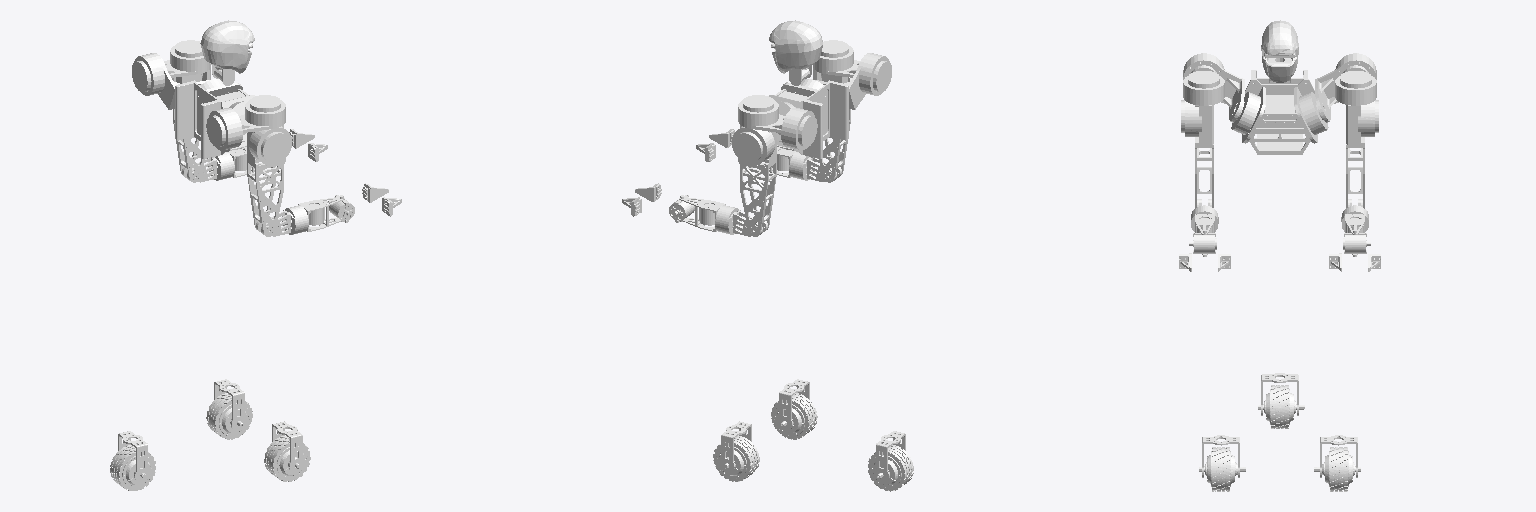
--- Render facts (derived) ---
Views: 3 orthographic renders of the robot side by side, from view 1: azimuth 30°, elevation 25°; view 2: azimuth 150°, elevation 25°; view 3: azimuth 270°, elevation 25°.
Robot: lanchong_description — 28 links, 27 joints (22 revolute, 5 prismatic); root link vehicle; default pose: all joints at 0.
Visible links, largest first — view 1: pelvis_link, right_shoulder_yaw_link, neck_pitch_link, left_shoulder_pitch_link, right_shoulder_roll_link, right_shoulder_pitch_link, rear_middle_roller_link, left_shoulder_roll_link, front_right_roller_link, front_left_roller_link, left_shoulder_yaw_link, right_elbow_link (+5 smaller); view 2: pelvis_link, left_shoulder_yaw_link, neck_pitch_link, right_shoulder_pitch_link, left_shoulder_roll_link, left_shoulder_pitch_link, rear_middle_roller_link, right_shoulder_roll_link, front_right_roller_link, front_left_roller_link, right_shoulder_yaw_link, left_elbow_link (+5 smaller); view 3: pelvis_link, neck_pitch_link, right_shoulder_yaw_link, left_shoulder_yaw_link, right_shoulder_roll_link, left_shoulder_roll_link, right_shoulder_pitch_link, left_shoulder_pitch_link, front_left_roller_link, front_right_roller_link, rear_middle_roller_link.
Link boxes in pixels (x1,y1,x2,y2): pelvis_link: [175, 79, 254, 158]; right_shoulder_yaw_link: [247, 125, 291, 236]; neck_pitch_link: [200, 20, 254, 85]; left_shoulder_pitch_link: [132, 53, 208, 109]; right_shoulder_roll_link: [239, 95, 285, 134]; right_shoulder_pitch_link: [206, 108, 246, 150]; rear_middle_roller_link: [110, 445, 155, 490]; left_shoulder_roll_link: [164, 40, 210, 77]; front_right_roller_link: [264, 436, 310, 481]; front_left_roller_link: [206, 393, 252, 439]; left_shoulder_yaw_link: [172, 68, 210, 182]; right_elbow_link: [256, 205, 308, 236]; pelvis_link: [769, 79, 848, 158]; left_shoulder_yaw_link: [732, 125, 776, 236]; neck_pitch_link: [769, 20, 822, 85]; right_shoulder_pitch_link: [815, 53, 891, 109]; left_shoulder_roll_link: [738, 95, 784, 134]; left_shoulder_pitch_link: [777, 107, 817, 150]; rear_middle_roller_link: [868, 445, 913, 491]; right_shoulder_roll_link: [813, 40, 859, 77]; front_right_roller_link: [771, 393, 817, 439]; front_left_roller_link: [713, 435, 759, 481]; right_shoulder_yaw_link: [813, 68, 851, 182]; left_elbow_link: [715, 205, 767, 236]; pelvis_link: [1231, 70, 1328, 154]; neck_pitch_link: [1261, 20, 1298, 82]; right_shoulder_yaw_link: [1181, 100, 1213, 208]; left_shoulder_yaw_link: [1346, 100, 1378, 208]; right_shoulder_roll_link: [1183, 65, 1224, 105]; left_shoulder_roll_link: [1335, 65, 1376, 105]; right_shoulder_pitch_link: [1183, 53, 1244, 122]; left_shoulder_pitch_link: [1315, 53, 1376, 122]; front_left_roller_link: [1314, 447, 1360, 491]; front_right_roller_link: [1199, 447, 1245, 491]; rear_middle_roller_link: [1258, 385, 1304, 428].
Bounding box of the posed robot: 0.8261 × 0.5863 × 1.43 m (x, y, z).
Meshes: 28 distinct files referenced, 24 mesh visuals loaded (24 binary STL); not drawn: 4 (reference not matched to a file when rendering).

robot.urdf — lanchong_description:
<?xml version="1.0" encoding="utf-8"?>
<!-- This URDF was automatically created by SolidWorks to URDF Exporter! Originally created by Stephen Brawner ([email redacted]) 
     Commit Version: 1.6.0-4-g7f85cfe  Build Version: 1.6.7995.38578
     For more information, please see http://wiki.ros.org/sw_urdf_exporter -->
<robot
  name="lanchong_description">
  <link
    name="vehicle">
    <inertial>
      <origin
        xyz="-0.12987 -0.00019144 0.74667"
        rpy="0 0 0" />
      <mass
        value="31.636" />
      <inertia
        ixx="3.6603"
        ixy="8.5448E-05"
        ixz="-0.00018619"
        iyy="3.6523"
        iyz="-5.9453E-06"
        izz="0.21878" />
    </inertial>
    <visual>
      <origin
        xyz="0 0 0"
        rpy="0 0 0" />
      <geometry>
        <mesh
          filename="package://lanchong_description/meshes/vehicle.STL" />
      </geometry>
      <material
        name="">
        <color
          rgba="1 1 1 1" />
      </material>
    </visual>
    <collision>
      <origin
        xyz="0 0 0"
        rpy="0 0 0" />
      <geometry>
        <mesh
          filename="package://lanchong_description/meshes/vehicle.STL" />
      </geometry>
    </collision>
  </link>
  <link
    name="rear_middle_rudder_link">
    <inertial>
      <origin
        xyz="-2.7756E-17 3.3871E-17 -0.043093"
        rpy="0 0 0" />
      <mass
        value="0.059006" />
      <inertia
        ixx="0.0002195"
        ixy="-1.339E-20"
        ixz="-3.4673E-21"
        iyy="0.00010325"
        iyz="-1.6349E-20"
        izz="0.0001381" />
    </inertial>
    <visual>
      <origin
        xyz="0 0 0"
        rpy="0 0 0" />
      <geometry>
        <mesh
          filename="package://lanchong_description/meshes/rear_middle_rudder_link.STL" />
      </geometry>
      <material
        name="">
        <color
          rgba="1 1 1 1" />
      </material>
    </visual>
    <collision>
      <origin
        xyz="0 0 0"
        rpy="0 0 0" />
      <geometry>
        <mesh
          filename="package://lanchong_description/meshes/rear_middle_rudder_link.STL" />
      </geometry>
    </collision>
  </link>
  <joint
    name="rear_middle_rudder_joint"
    type="revolute">
    <origin
      xyz="-0.3216 0 0.159"
      rpy="0 0 0" />
    <parent
      link="vehicle" />
    <child
      link="rear_middle_rudder_link" />
    <axis
      xyz="0 0 1" />
    <limit
      lower="-3.14"
      upper="3.14"
      effort="100"
      velocity="1" />
  </joint>
  <link
    name="rear_middle_roller_link">
    <inertial>
      <origin
        xyz="-3.7169E-09 3.0991E-06 7.4051E-05"
        rpy="0 0 0" />
      <mass
        value="0.80865" />
      <inertia
        ixx="0.0010489"
        ixy="-2.1242E-10"
        ixz="-1.3384E-08"
        iyy="0.0014046"
        iyz="-9.0297E-08"
        izz="0.0010514" />
    </inertial>
    <visual>
      <origin
        xyz="0 0 0"
        rpy="0 0 0" />
      <geometry>
        <mesh
          filename="package://lanchong_description/meshes/rear_middle_roller_link.STL" />
      </geometry>
      <material
        name="">
        <color
          rgba="1 1 1 1" />
      </material>
    </visual>
    <collision>
      <origin
        xyz="0 0 0"
        rpy="0 0 0" />
      <geometry>
        <mesh
          filename="package://lanchong_description/meshes/rear_middle_roller_link.STL" />
      </geometry>
    </collision>
  </link>
  <joint
    name="rear_middle_roller_joint"
    type="revolute">
    <origin
      xyz="0 0 -0.095"
      rpy="0 0 0" />
    <parent
      link="rear_middle_rudder_link" />
    <child
      link="rear_middle_roller_link" />
    <axis
      xyz="0 -1 0" />
    <limit
      lower="-3.14"
      upper="3.14"
      effort="100"
      velocity="1" />
  </joint>
  <link
    name="front_right_rudder_link">
    <inertial>
      <origin
        xyz="0 -5.5511E-17 -0.043093"
        rpy="0 0 0" />
      <mass
        value="0.059006" />
      <inertia
        ixx="0.0002195"
        ixy="-6.5657E-21"
        ixz="-2.4478E-21"
        iyy="0.00010325"
        iyz="-1.0418E-19"
        izz="0.0001381" />
    </inertial>
    <visual>
      <origin
        xyz="0 0 0"
        rpy="0 0 0" />
      <geometry>
        <mesh
          filename="package://lanchong_description/meshes/front_right_rudder_link.STL" />
      </geometry>
      <material
        name="">
        <color
          rgba="1 1 1 1" />
      </material>
    </visual>
    <collision>
      <origin
        xyz="0 0 0"
        rpy="0 0 0" />
      <geometry>
        <mesh
          filename="package://lanchong_description/meshes/front_right_rudder_link.STL" />
      </geometry>
    </collision>
  </link>
  <joint
    name="front_right_rudder_joint"
    type="revolute">
    <origin
      xyz="0.1034 -0.17 0.159"
      rpy="0 0 0" />
    <parent
      link="vehicle" />
    <child
      link="front_right_rudder_link" />
    <axis
      xyz="0 0 1" />
    <limit
      lower="-3.14"
      upper="3.14"
      effort="100"
      velocity="1" />
  </joint>
  <link
    name="front_right_roller_link">
    <inertial>
      <origin
        xyz="-3.7169E-09 3.0991E-06 7.4051E-05"
        rpy="0 0 0" />
      <mass
        value="0.80865" />
      <inertia
        ixx="0.0010489"
        ixy="-2.1242E-10"
        ixz="-1.3384E-08"
        iyy="0.0014046"
        iyz="-9.0297E-08"
        izz="0.0010514" />
    </inertial>
    <visual>
      <origin
        xyz="0 0 0"
        rpy="0 0 0" />
      <geometry>
        <mesh
          filename="package://lanchong_description/meshes/front_right_roller_link.STL" />
      </geometry>
      <material
        name="">
        <color
          rgba="1 1 1 1" />
      </material>
    </visual>
    <collision>
      <origin
        xyz="0 0 0"
        rpy="0 0 0" />
      <geometry>
        <mesh
          filename="package://lanchong_description/meshes/front_right_roller_link.STL" />
      </geometry>
    </collision>
  </link>
  <joint
    name="front_right_roller_joint"
    type="revolute">
    <origin
      xyz="0 0 -0.095"
      rpy="0 0 0" />
    <parent
      link="front_right_rudder_link" />
    <child
      link="front_right_roller_link" />
    <axis
      xyz="0 -1 0" />
    <limit
      lower="-3.14"
      upper="3.14"
      effort="100"
      velocity="1" />
  </joint>
  <link
    name="front_left_rudder_link">
    <inertial>
      <origin
        xyz="-2.7756E-17 5.5511E-17 -0.043093"
        rpy="0 0 0" />
      <mass
        value="0.059006" />
      <inertia
        ixx="0.0002195"
        ixy="-9.192E-21"
        ixz="-5.2948E-22"
        iyy="0.00010325"
        iyz="2.3144E-20"
        izz="0.0001381" />
    </inertial>
    <visual>
      <origin
        xyz="0 0 0"
        rpy="0 0 0" />
      <geometry>
        <mesh
          filename="package://lanchong_description/meshes/front_left_rudder_link.STL" />
      </geometry>
      <material
        name="">
        <color
          rgba="1 1 1 1" />
      </material>
    </visual>
    <collision>
      <origin
        xyz="0 0 0"
        rpy="0 0 0" />
      <geometry>
        <mesh
          filename="package://lanchong_description/meshes/front_left_rudder_link.STL" />
      </geometry>
    </collision>
  </link>
  <joint
    name="front_left_rudder_joint"
    type="revolute">
    <origin
      xyz="0.1034 0.17 0.159"
      rpy="0 0 0" />
    <parent
      link="vehicle" />
    <child
      link="front_left_rudder_link" />
    <axis
      xyz="0 0 1" />
    <limit
      lower="-3.14"
      upper="3.14"
      effort="100"
      velocity="1" />
  </joint>
  <link
    name="front_left_roller_link">
    <inertial>
      <origin
        xyz="3.7169E-09 -3.0991E-06 7.4051E-05"
        rpy="0 0 0" />
      <mass
        value="0.80865" />
      <inertia
        ixx="0.0010489"
        ixy="-2.1242E-10"
        ixz="1.3384E-08"
        iyy="0.0014046"
        iyz="9.0297E-08"
        izz="0.0010514" />
    </inertial>
    <visual>
      <origin
        xyz="0 0 0"
        rpy="0 0 0" />
      <geometry>
        <mesh
          filename="package://lanchong_description/meshes/front_left_roller_link.STL" />
      </geometry>
      <material
        name="">
        <color
          rgba="1 1 1 1" />
      </material>
    </visual>
    <collision>
      <origin
        xyz="0 0 0"
        rpy="0 0 0" />
      <geometry>
        <mesh
          filename="package://lanchong_description/meshes/front_left_roller_link.STL" />
      </geometry>
    </collision>
  </link>
  <joint
    name="front_left_roller_joint"
    type="revolute">
    <origin
      xyz="0 0 -0.095"
      rpy="0 0 0" />
    <parent
      link="front_left_rudder_link" />
    <child
      link="front_left_roller_link" />
    <axis
      xyz="0 1 0" />
    <limit
      lower="-3.14"
      upper="3.14"
      effort="100"
      velocity="1" />
  </joint>
  <link
    name="pelvis_link">
    <inertial>
      <origin
        xyz="-0.022255 -0.00021026 -0.017073"
        rpy="0 0 0" />
      <mass
        value="1.8633" />
      <inertia
        ixx="0.0044236"
        ixy="2.3718E-07"
        ixz="5.4732E-07"
        iyy="0.0040692"
        iyz="-9.5262E-11"
        izz="0.0034874" />
    </inertial>
    <visual>
      <origin
        xyz="0 0 0"
        rpy="0 0 0" />
      <geometry>
        <mesh
          filename="package://lanchong_description/meshes/pelvis_link.STL" />
      </geometry>
      <material
        name="">
        <color
          rgba="1 1 1 1" />
      </material>
    </visual>
    <collision>
      <origin
        xyz="0 0 0"
        rpy="0 0 0" />
      <geometry>
        <mesh
          filename="package://lanchong_description/meshes/pelvis_link.STL" />
      </geometry>
    </collision>
  </link>
  <joint
    name="pelvis_joint"
    type="prismatic">
    <origin
      xyz="0 0 1.1588"
      rpy="0 0 0" />
    <parent
      link="vehicle" />
    <child
      link="pelvis_link" />
    <axis
      xyz="0 0 1" />
    <limit
      lower="-0.49193"
      upper="0.559"
      effort="100"
      velocity="1" />
  </joint>
  <link
    name="right_shoulder_pitch_link">
    <inertial>
      <origin
        xyz="-0.12282 -0.090349 -5.8329E-09"
        rpy="0 0 0" />
      <mass
        value="0.77765" />
      <inertia
        ixx="0.0026005"
        ixy="-0.0012002"
        ixz="1.8435E-10"
        iyy="0.0021476"
        iyz="3.0074E-10"
        izz="0.003458" />
    </inertial>
    <visual>
      <origin
        xyz="0 0 0"
        rpy="0 0 0" />
      <geometry>
        <mesh
          filename="package://lanchong_description/meshes/right_shoulder_pitch_link.STL" />
      </geometry>
      <material
        name="">
        <color
          rgba="1 1 1 1" />
      </material>
    </visual>
    <collision>
      <origin
        xyz="0 0 0"
        rpy="0 0 0" />
      <geometry>
        <mesh
          filename="package://lanchong_description/meshes/right_shoulder_pitch_link.STL" />
      </geometry>
    </collision>
  </link>
  <joint
    name="right_shoulder_pitch_joint"
    type="revolute">
    <origin
      xyz="0 -0.11533 0"
      rpy="-0.43633 0 0" />
    <parent
      link="pelvis_link" />
    <child
      link="right_shoulder_pitch_link" />
    <axis
      xyz="0 -1 0" />
    <limit
      lower="-3.14"
      upper="3.14"
      effort="100"
      velocity="1" />
  </joint>
  <link
    name="right_shoulder_roll_link">
    <inertial>
      <origin
        xyz="-0.018752 6.2931E-05 0.021815"
        rpy="0 0 0" />
      <mass
        value="0.70801" />
      <inertia
        ixx="0.00084127"
        ixy="3.5088E-06"
        ixz="-0.00028964"
        iyy="0.0018758"
        iyz="9.7194E-07"
        izz="0.0022102" />
    </inertial>
    <visual>
      <origin
        xyz="0 0 0"
        rpy="0 0 0" />
      <geometry>
        <mesh
          filename="package://lanchong_description/meshes/right_shoulder_roll_link.STL" />
      </geometry>
      <material
        name="">
        <color
          rgba="1 1 1 1" />
      </material>
    </visual>
    <collision>
      <origin
        xyz="0 0 0"
        rpy="0 0 0" />
      <geometry>
        <mesh
          filename="package://lanchong_description/meshes/right_shoulder_roll_link.STL" />
      </geometry>
    </collision>
  </link>
  <joint
    name="right_shoulder_roll_joint"
    type="revolute">
    <origin
      xyz="0 -0.115 0"
      rpy="0.43633 0 0" />
    <parent
      link="right_shoulder_pitch_link" />
    <child
      link="right_shoulder_roll_link" />
    <axis
      xyz="1 0 0" />
    <limit
      lower="-3.14"
      upper="3.14"
      effort="100"
      velocity="1" />
  </joint>
  <link
    name="right_shoulder_yaw_link">
    <inertial>
      <origin
        xyz="0.00082898 -0.021155 -0.099194"
        rpy="0 0 0" />
      <mass
        value="0.89472" />
      <inertia
        ixx="0.0017584"
        ixy="1.1064E-06"
        ixz="-4.0872E-06"
        iyy="0.0024378"
        iyz="8.9462E-06"
        izz="0.0010409" />
    </inertial>
    <visual>
      <origin
        xyz="0 0 0"
        rpy="0 0 0" />
      <geometry>
        <mesh
          filename="package://lanchong_description/meshes/right_shoulder_yaw_link.STL" />
      </geometry>
      <material
        name="">
        <color
          rgba="1 1 1 1" />
      </material>
    </visual>
    <collision>
      <origin
        xyz="0 0 0"
        rpy="0 0 0" />
      <geometry>
        <mesh
          filename="package://lanchong_description/meshes/right_shoulder_yaw_link.STL" />
      </geometry>
    </collision>
  </link>
  <joint
    name="right_shoulder_yaw_joint"
    type="revolute">
    <origin
      xyz="0 0 0.0045"
      rpy="0 0 0" />
    <parent
      link="right_shoulder_roll_link" />
    <child
      link="right_shoulder_yaw_link" />
    <axis
      xyz="0 0 -1" />
    <limit
      lower="-3.14"
      upper="3.14"
      effort="100"
      velocity="1" />
  </joint>
  <link
    name="right_elbow_link">
    <inertial>
      <origin
        xyz="0.086482 5.5835E-05 -0.00065621"
        rpy="0 0 0" />
      <mass
        value="0.2936" />
      <inertia
        ixx="0.0001943"
        ixy="-5.5588E-08"
        ixz="-1.6047E-06"
        iyy="0.00019706"
        iyz="2.9945E-09"
        izz="0.00018493" />
    </inertial>
    <visual>
      <origin
        xyz="0 0 0"
        rpy="0 0 0" />
      <geometry>
        <mesh
          filename="package://lanchong_description/meshes/right_elbow_link.STL" />
      </geometry>
      <material
        name="">
        <color
          rgba="1 1 1 1" />
      </material>
    </visual>
    <collision>
      <origin
        xyz="0 0 0"
        rpy="0 0 0" />
      <geometry>
        <mesh
          filename="package://lanchong_description/meshes/right_elbow_link.STL" />
      </geometry>
    </collision>
  </link>
  <joint
    name="right_elbow_joint"
    type="revolute">
    <origin
      xyz="0 0.002 -0.35548"
      rpy="0 0 0" />
    <parent
      link="right_shoulder_yaw_link" />
    <child
      link="right_elbow_link" />
    <axis
      xyz="0 -1 0" />
    <limit
      lower="-2.477"
      upper="0.662"
      effort="100"
      velocity="1" />
  </joint>
  <link
    name="right_wrist_roll_link">
    <inertial>
      <origin
        xyz="0.03908 2.3234E-07 0.0042743"
        rpy="0 0 0" />
      <mass
        value="0.18268" />
      <inertia
        ixx="8.7855E-05"
        ixy="-2.0139E-09"
        ixz="-5.6618E-06"
        iyy="0.0001144"
        iyz="-5.1871E-10"
        izz="0.00010647" />
    </inertial>
    <visual>
      <origin
        xyz="0 0 0"
        rpy="0 0 0" />
      <geometry>
        <mesh
          filename="package://lanchong_description/meshes/right_wrist_roll_link.STL" />
      </geometry>
      <material
        name="">
        <color
          rgba="1 1 1 1" />
      </material>
    </visual>
    <collision>
      <origin
        xyz="0 0 0"
        rpy="0 0 0" />
      <geometry>
        <mesh
          filename="package://lanchong_description/meshes/right_wrist_roll_link.STL" />
      </geometry>
    </collision>
  </link>
  <joint
    name="right_wrist_roll_joint"
    type="revolute">
    <origin
      xyz="0.1275 0 0"
      rpy="0 0 0" />
    <parent
      link="right_elbow_link" />
    <child
      link="right_wrist_roll_link" />
    <axis
      xyz="-1 0 0" />
    <limit
      lower="-3.14"
      upper="3.14"
      effort="100"
      velocity="1" />
  </joint>
  <link
    name="right_wrist_pitch_link">
    <inertial>
      <origin
        xyz="8.8818E-16 0.00064955 -5.107E-15"
        rpy="0 0 0" />
      <mass
        value="0.16063" />
      <inertia
        ixx="7.7526E-05"
        ixy="4.871E-21"
        ixz="4.5838E-08"
        iyy="6.1244E-05"
        iyz="8.859E-21"
        izz="7.6996E-05" />
    </inertial>
    <visual>
      <origin
        xyz="0 0 0"
        rpy="0 0 0" />
      <geometry>
        <mesh
          filename="package://lanchong_description/meshes/right_wrist_pitch_link.STL" />
      </geometry>
      <material
        name="">
        <color
          rgba="1 1 1 1" />
      </material>
    </visual>
    <collision>
      <origin
        xyz="0 0 0"
        rpy="0 0 0" />
      <geometry>
        <mesh
          filename="package://lanchong_description/meshes/right_wrist_pitch_link.STL" />
      </geometry>
    </collision>
  </link>
  <joint
    name="right_wrist_pitch_joint"
    type="revolute">
    <origin
      xyz="0.132 0 0"
      rpy="0 0 0" />
    <parent
      link="right_wrist_roll_link" />
    <child
      link="right_wrist_pitch_link" />
    <axis
      xyz="0 0 1" />
    <limit
      lower="-2.094"
      upper="2.094"
      effort="100"
      velocity="1" />
  </joint>
  <link
    name="right_wrist_yaw_link">
    <inertial>
      <origin
        xyz="0.072416 -3.1956E-05 4.705E-06"
        rpy="0 0 0" />
      <mass
        value="0.18746" />
      <inertia
        ixx="0.00011976"
        ixy="-1.5351E-07"
        ixz="-1.3869E-08"
        iyy="4.9749E-05"
        iyz="1.2939E-07"
        izz="9.9446E-05" />
    </inertial>
    <visual>
      <origin
        xyz="0 0 0"
        rpy="0 0 0" />
      <geometry>
        <mesh
          filename="package://lanchong_description/meshes/right_wrist_yaw_link.STL" />
      </geometry>
      <material
        name="">
        <color
          rgba="1 1 1 1" />
      </material>
    </visual>
    <collision>
      <origin
        xyz="0 0 0"
        rpy="0 0 0" />
      <geometry>
        <mesh
          filename="package://lanchong_description/meshes/right_wrist_yaw_link.STL" />
      </geometry>
    </collision>
  </link>
  <joint
    name="right_wrist_yaw_joint"
    type="revolute">
    <origin
      xyz="0 0 0"
      rpy="0 0 0" />
    <parent
      link="right_wrist_pitch_link" />
    <child
      link="right_wrist_yaw_link" />
    <axis
      xyz="0 1 0" />
    <limit
      lower="-1.744"
      upper="1.744"
      effort="100"
      velocity="1" />
  </joint>
  <link
    name="right_clamp_right_link">
    <inertial>
      <origin
        xyz="0.016969 -0.014264 0.00044012"
        rpy="0 0 0" />
      <mass
        value="0.0347" />
      <inertia
        ixx="8.0322E-06"
        ixy="-1.936E-06"
        ixz="3.9669E-08"
        iyy="1.0718E-05"
        iyz="-5.1988E-08"
        izz="1.0178E-05" />
    </inertial>
    <visual>
      <origin
        xyz="0 0 0"
        rpy="0 0 0" />
      <geometry>
        <mesh
          filename="package://lanchong_description/meshes/right_clamp_right_link.STL" />
      </geometry>
      <material
        name="">
        <color
          rgba="1 1 1 1" />
      </material>
    </visual>
    <collision>
      <origin
        xyz="0 0 0"
        rpy="0 0 0" />
      <geometry>
        <mesh
          filename="package://lanchong_description/meshes/right_clamp_right_link.STL" />
      </geometry>
    </collision>
  </link>
  <joint
    name="right_clamp_right_joint"
    type="prismatic">
    <origin
      xyz="0.1158 -0.0376 0"
      rpy="0 0 0" />
    <parent
      link="right_wrist_yaw_link" />
    <child
      link="right_clamp_right_link" />
    <axis
      xyz="0 -1 0" />
    <limit
      lower="-0.0376"
      upper="0"
      effort="100"
      velocity="1" />
  </joint>
  <link
    name="right_clamp_left_link">
    <inertial>
      <origin
        xyz="0.016969 0.014264 -0.00044012"
        rpy="0 0 0" />
      <mass
        value="0.0347" />
      <inertia
        ixx="8.0322E-06"
        ixy="1.936E-06"
        ixz="-3.9669E-08"
        iyy="1.0718E-05"
        iyz="-5.1988E-08"
        izz="1.0178E-05" />
    </inertial>
    <visual>
      <origin
        xyz="0 0 0"
        rpy="0 0 0" />
      <geometry>
        <mesh
          filename="package://lanchong_description/meshes/right_clamp_left_link.STL" />
      </geometry>
      <material
        name="">
        <color
          rgba="1 1 1 1" />
      </material>
    </visual>
    <collision>
      <origin
        xyz="0 0 0"
        rpy="0 0 0" />
      <geometry>
        <mesh
          filename="package://lanchong_description/meshes/right_clamp_left_link.STL" />
      </geometry>
    </collision>
  </link>
  <joint
    name="right_clamp_left_joint"
    type="prismatic">
    <origin
      xyz="0.1158 0.0376 0"
      rpy="0 0 0" />
    <parent
      link="right_wrist_yaw_link" />
    <child
      link="right_clamp_left_link" />
    <axis
      xyz="0 -1 0" />
    <limit
      lower="0"
      upper="0.0376"
      effort="100"
      velocity="1" />
  </joint>
  <link
    name="left_shoulder_pitch_link">
    <inertial>
      <origin
        xyz="-0.12282 0.090349 5.7992E-09"
        rpy="0 0 0" />
      <mass
        value="0.77765" />
      <inertia
        ixx="0.0026005"
        ixy="0.0012002"
        ixz="-1.8274E-10"
        iyy="0.0021476"
        iyz="2.9959E-10"
        izz="0.003458" />
    </inertial>
    <visual>
      <origin
        xyz="0 0 0"
        rpy="0 0 0" />
      <geometry>
        <mesh
          filename="package://lanchong_description/meshes/left_shoulder_pitch_link.STL" />
      </geometry>
      <material
        name="">
        <color
          rgba="1 1 1 1" />
      </material>
    </visual>
    <collision>
      <origin
        xyz="0 0 0"
        rpy="0 0 0" />
      <geometry>
        <mesh
          filename="package://lanchong_description/meshes/left_shoulder_pitch_link.STL" />
      </geometry>
    </collision>
  </link>
  <joint
    name="left_shoulder_pitch_joint"
    type="revolute">
    <origin
      xyz="0 0.11533 0"
      rpy="0.43633 0 0" />
    <parent
      link="pelvis_link" />
    <child
      link="left_shoulder_pitch_link" />
    <axis
      xyz="0 1 0" />
    <limit
      lower="-3.14"
      upper="3.14"
      effort="100"
      velocity="1" />
  </joint>
  <link
    name="left_shoulder_roll_link">
    <inertial>
      <origin
        xyz="-0.018752 6.2931E-05 0.021815"
        rpy="0 0 0" />
      <mass
        value="0.70801" />
      <inertia
        ixx="0.00084127"
        ixy="3.5088E-06"
        ixz="-0.00028964"
        iyy="0.0018758"
        iyz="9.7194E-07"
        izz="0.0022102" />
    </inertial>
    <visual>
      <origin
        xyz="0 0 0"
        rpy="0 0 0" />
      <geometry>
        <mesh
          filename="package://lanchong_description/meshes/left_shoulder_roll_link.STL" />
      </geometry>
      <material
        name="">
        <color
          rgba="1 1 1 1" />
      </material>
    </visual>
    <collision>
      <origin
        xyz="0 0 0"
        rpy="0 0 0" />
      <geometry>
        <mesh
          filename="package://lanchong_description/meshes/left_shoulder_roll_link.STL" />
      </geometry>
    </collision>
  </link>
  <joint
    name="left_shoulder_roll_joint"
    type="revolute">
    <origin
      xyz="0 0.115 0"
      rpy="-0.43633 0 0" />
    <parent
      link="left_shoulder_pitch_link" />
    <child
      link="left_shoulder_roll_link" />
    <axis
      xyz="1 0 0" />
    <limit
      lower="-3.14"
      upper="3.14"
      effort="100"
      velocity="1" />
  </joint>
  <link
    name="left_shoulder_yaw_link">
    <inertial>
      <origin
        xyz="0.00070276 0.022035 -0.10012"
        rpy="0 0 0" />
      <mass
        value="0.87401" />
      <inertia
        ixx="0.0017143"
        ixy="-9.6468E-08"
        ixz="-6.1608E-07"
        iyy="0.0023794"
        iyz="-3.4639E-06"
        izz="0.0010155" />
    </inertial>
    <visual>
      <origin
        xyz="0 0 0"
        rpy="0 0 0" />
      <geometry>
        <mesh
          filename="package://lanchong_description/meshes/left_shoulder_yaw_link.STL" />
      </geometry>
      <material
        name="">
        <color
          rgba="1 1 1 1" />
      </material>
    </visual>
    <collision>
      <origin
        xyz="0 0 0"
        rpy="0 0 0" />
      <geometry>
        <mesh
          filename="package://lanchong_description/meshes/left_shoulder_yaw_link.STL" />
      </geometry>
    </collision>
  </link>
  <joint
    name="left_shoulder_yaw_joint"
    type="revolute">
    <origin
      xyz="0 0 0.0045"
      rpy="0 0 0" />
    <parent
      link="left_shoulder_roll_link" />
    <child
      link="left_shoulder_yaw_link" />
    <axis
      xyz="0 0 -1" />
    <limit
      lower="-3.14"
      upper="3.14"
      effort="100"
      velocity="1" />
  </joint>
  <link
    name="left_elbow_link">
    <inertial>
      <origin
        xyz="0.086482 5.5835E-05 -0.00065621"
        rpy="0 0 0" />
      <mass
        value="0.2936" />
      <inertia
        ixx="0.0001943"
        ixy="-5.5588E-08"
        ixz="-1.6047E-06"
        iyy="0.00019706"
        iyz="2.9945E-09"
        izz="0.00018493" />
    </inertial>
    <visual>
      <origin
        xyz="0 0 0"
        rpy="0 0 0" />
      <geometry>
        <mesh
          filename="package://lanchong_description/meshes/left_elbow_link.STL" />
      </geometry>
      <material
        name="">
        <color
          rgba="1 1 1 1" />
      </material>
    </visual>
    <collision>
      <origin
        xyz="0 0 0"
        rpy="0 0 0" />
      <geometry>
        <mesh
          filename="package://lanchong_description/meshes/left_elbow_link.STL" />
      </geometry>
    </collision>
  </link>
  <joint
    name="left_elbow_joint"
    type="revolute">
    <origin
      xyz="0 -0.002 -0.35548"
      rpy="0 0 0" />
    <parent
      link="left_shoulder_yaw_link" />
    <child
      link="left_elbow_link" />
    <axis
      xyz="0 -1 0" />
    <limit
      lower="-2.477"
      upper="0.662"
      effort="100"
      velocity="1" />
  </joint>
  <link
    name="left_wrist_roll_link">
    <inertial>
      <origin
        xyz="0.03908 2.3234E-07 0.0042743"
        rpy="0 0 0" />
      <mass
        value="0.18268" />
      <inertia
        ixx="8.7855E-05"
        ixy="-2.0139E-09"
        ixz="-5.6618E-06"
        iyy="0.0001144"
        iyz="-5.1871E-10"
        izz="0.00010647" />
    </inertial>
    <visual>
      <origin
        xyz="0 0 0"
        rpy="0 0 0" />
      <geometry>
        <mesh
          filename="package://lanchong_description/meshes/left_wrist_roll_link.STL" />
      </geometry>
      <material
        name="">
        <color
          rgba="1 1 1 1" />
      </material>
    </visual>
    <collision>
      <origin
        xyz="0 0 0"
        rpy="0 0 0" />
      <geometry>
        <mesh
          filename="package://lanchong_description/meshes/left_wrist_roll_link.STL" />
      </geometry>
    </collision>
  </link>
  <joint
    name="left_wrist_roll_joint"
    type="revolute">
    <origin
      xyz="0.1275 0 0"
      rpy="0 0 0" />
    <parent
      link="left_elbow_link" />
    <child
      link="left_wrist_roll_link" />
    <axis
      xyz="-1 0 0" />
    <limit
      lower="-3.14"
      upper="3.14"
      effort="100"
      velocity="1" />
  </joint>
  <link
    name="left_wrist_pitch_link">
    <inertial>
      <origin
        xyz="8.3267E-16 -0.00064955 -4.996E-15"
        rpy="0 0 0" />
      <mass
        value="0.16063" />
      <inertia
        ixx="7.7526E-05"
        ixy="-2.5639E-21"
        ixz="-4.5838E-08"
        iyy="6.1244E-05"
        iyz="9.293E-21"
        izz="7.6996E-05" />
    </inertial>
    <visual>
      <origin
        xyz="0 0 0"
        rpy="0 0 0" />
      <geometry>
        <mesh
          filename="package://lanchong_description/meshes/left_wrist_pitch_link.STL" />
      </geometry>
      <material
        name="">
        <color
          rgba="1 1 1 1" />
      </material>
    </visual>
    <collision>
      <origin
        xyz="0 0 0"
        rpy="0 0 0" />
      <geometry>
        <mesh
          filename="package://lanchong_description/meshes/left_wrist_pitch_link.STL" />
      </geometry>
    </collision>
  </link>
  <joint
    name="left_wrist_pitch_joint"
    type="revolute">
    <origin
      xyz="0.132 0 0"
      rpy="0 0 0" />
    <parent
      link="left_wrist_roll_link" />
    <child
      link="left_wrist_pitch_link" />
    <axis
      xyz="0 0 1" />
    <limit
      lower="-2.094"
      upper="2.094"
      effort="100"
      velocity="1" />
  </joint>
  <link
    name="left_wrist_yaw_link">
    <inertial>
      <origin
        xyz="0.072416 3.1956E-05 -4.705E-06"
        rpy="0 0 0" />
      <mass
        value="0.18746" />
      <inertia
        ixx="0.00011976"
        ixy="1.5351E-07"
        ixz="1.3869E-08"
        iyy="4.9749E-05"
        iyz="1.2939E-07"
        izz="9.9446E-05" />
    </inertial>
    <visual>
      <origin
        xyz="0 0 0"
        rpy="0 0 0" />
      <geometry>
        <mesh
          filename="package://lanchong_description/meshes/left_wrist_yaw_link.STL" />
      </geometry>
      <material
        name="">
        <color
          rgba="1 1 1 1" />
      </material>
    </visual>
    <collision>
      <origin
        xyz="0 0 0"
        rpy="0 0 0" />
      <geometry>
        <mesh
          filename="package://lanchong_description/meshes/left_wrist_yaw_link.STL" />
      </geometry>
    </collision>
  </link>
  <joint
    name="left_wrist_yaw_joint"
    type="revolute">
    <origin
      xyz="0 0 0"
      rpy="0 0 0" />
    <parent
      link="left_wrist_pitch_link" />
    <child
      link="left_wrist_yaw_link" />
    <axis
      xyz="0 1 0" />
    <limit
      lower="-1.744"
      upper="1.744"
      effort="100"
      velocity="1" />
  </joint>
  <link
    name="left_clamp_right_link">
    <inertial>
      <origin
        xyz="0.016969 -0.014264 0.00044012"
        rpy="0 0 0" />
      <mass
        value="0.0347" />
      <inertia
        ixx="8.0322E-06"
        ixy="-1.936E-06"
        ixz="3.9669E-08"
        iyy="1.0718E-05"
        iyz="-5.1988E-08"
        izz="1.0178E-05" />
    </inertial>
    <visual>
      <origin
        xyz="0 0 0"
        rpy="0 0 0" />
      <geometry>
        <mesh
          filename="package://lanchong_description/meshes/left_clamp_right_link.STL" />
      </geometry>
      <material
        name="">
        <color
          rgba="1 1 1 1" />
      </material>
    </visual>
    <collision>
      <origin
        xyz="0 0 0"
        rpy="0 0 0" />
      <geometry>
        <mesh
          filename="package://lanchong_description/meshes/left_clamp_right_link.STL" />
      </geometry>
    </collision>
  </link>
  <joint
    name="left_clamp_right_joint"
    type="prismatic">
    <origin
      xyz="0.1158 -0.0376 0"
      rpy="0 0 0" />
    <parent
      link="left_wrist_yaw_link" />
    <child
      link="left_clamp_right_link" />
    <axis
      xyz="0 1 0" />
    <limit
      lower="0"
      upper="0.0376"
      effort="100"
      velocity="1" />
  </joint>
  <link
    name="left_clamp_left_link">
    <inertial>
      <origin
        xyz="0.016969 0.014264 -0.00044012"
        rpy="0 0 0" />
      <mass
        value="0.0347" />
      <inertia
        ixx="8.0322E-06"
        ixy="1.936E-06"
        ixz="-3.9669E-08"
        iyy="1.0718E-05"
        iyz="-5.1988E-08"
        izz="1.0178E-05" />
    </inertial>
    <visual>
      <origin
        xyz="0 0 0"
        rpy="0 0 0" />
      <geometry>
        <mesh
          filename="package://lanchong_description/meshes/left_clamp_left_link.STL" />
      </geometry>
      <material
        name="">
        <color
          rgba="1 1 1 1" />
      </material>
    </visual>
    <collision>
      <origin
        xyz="0 0 0"
        rpy="0 0 0" />
      <geometry>
        <mesh
          filename="package://lanchong_description/meshes/left_clamp_left_link.STL" />
      </geometry>
    </collision>
  </link>
  <joint
    name="left_clamp_left_joint"
    type="prismatic">
    <origin
      xyz="0.1158 0.0376 0"
      rpy="0 0 0" />
    <parent
      link="left_wrist_yaw_link" />
    <child
      link="left_clamp_left_link" />
    <axis
      xyz="0 1 0" />
    <limit
      lower="-0.0376"
      upper="0"
      effort="100"
      velocity="1" />
  </joint>
  <link
    name="neck_yaw_link">
    <inertial>
      <origin
        xyz="-7.7659E-06 0.00036629 0.040933"
        rpy="0 0 0" />
      <mass
        value="0.059102" />
      <inertia
        ixx="2.8865E-05"
        ixy="-1.4805E-09"
        ixz="-3.7684E-12"
        iyy="2.3124E-05"
        iyz="-6.422E-07"
        izz="3.6776E-05" />
    </inertial>
    <visual>
      <origin
        xyz="0 0 0"
        rpy="0 0 0" />
      <geometry>
        <mesh
          filename="package://lanchong_description/meshes/neck_yaw_link.STL" />
      </geometry>
      <material
        name="">
        <color
          rgba="1 1 1 1" />
      </material>
    </visual>
    <collision>
      <origin
        xyz="0 0 0"
        rpy="0 0 0" />
      <geometry>
        <mesh
          filename="package://lanchong_description/meshes/neck_yaw_link.STL" />
      </geometry>
    </collision>
  </link>
  <joint
    name="neck_yaw_joint"
    type="revolute">
    <origin
      xyz="-0.0155 0 0.020194"
      rpy="0 0 0" />
    <parent
      link="pelvis_link" />
    <child
      link="neck_yaw_link" />
    <axis
      xyz="0 0 1" />
    <limit
      lower="-1.744"
      upper="1.744"
      effort="100"
      velocity="1" />
  </joint>
  <link
    name="neck_pitch_link">
    <inertial>
      <origin
        xyz="0.014656 -0.00011074 0.074281"
        rpy="0 0 0" />
      <mass
        value="0.46933" />
      <inertia
        ixx="0.001676"
        ixy="-3.665E-06"
        ixz="2.9264E-05"
        iyy="0.0020113"
        iyz="2.2904E-05"
        izz="0.001184" />
    </inertial>
    <visual>
      <origin
        xyz="0 0 0"
        rpy="0 0 0" />
      <geometry>
        <mesh
          filename="package://lanchong_description/meshes/neck_pitch_link.STL" />
      </geometry>
      <material
        name="">
        <color
          rgba="1 1 1 1" />
      </material>
    </visual>
    <collision>
      <origin
        xyz="0 0 0"
        rpy="0 0 0" />
      <geometry>
        <mesh
          filename="package://lanchong_description/meshes/neck_pitch_link.STL" />
      </geometry>
    </collision>
  </link>
  <joint
    name="neck_pitch_joint"
    type="revolute">
    <origin
      xyz="0 0 0.085056"
      rpy="0 0 0" />
    <parent
      link="neck_yaw_link" />
    <child
      link="neck_pitch_link" />
    <axis
      xyz="0 1 0" />
    <limit
      lower="-1.300"
      upper="1.256"
      effort="100"
      velocity="1" />
  </joint>
</robot>
